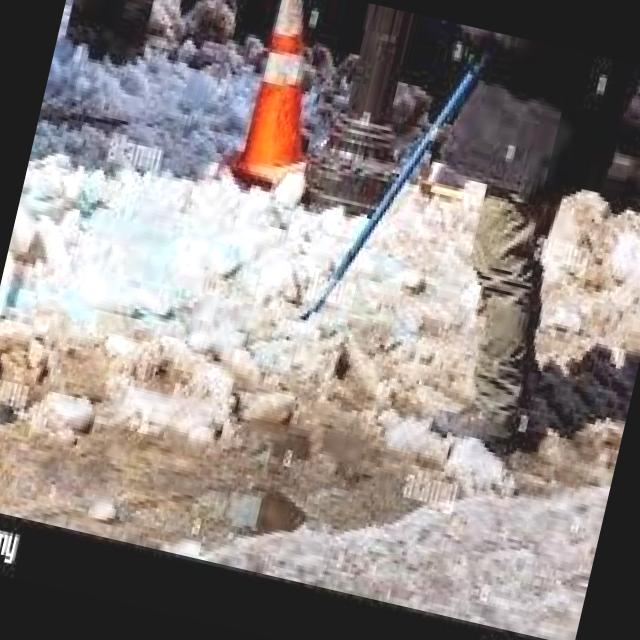Cone: (215, 0, 346, 205)
